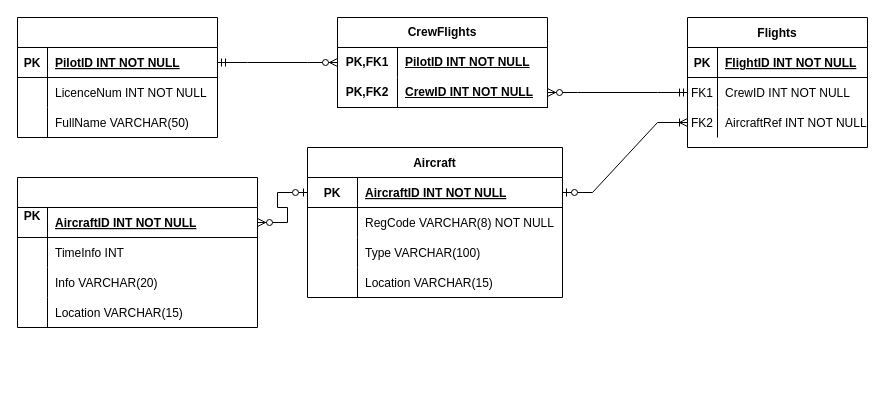
The diagram is 885 pixels wide and 395 high, and some of its shapes have lost their labels. The box of each missing label's shape, as (x1, y1, x2, y2) in pixels:
AircraftHistory: (16, 176, 258, 328)
Pilots: (16, 16, 218, 138)
